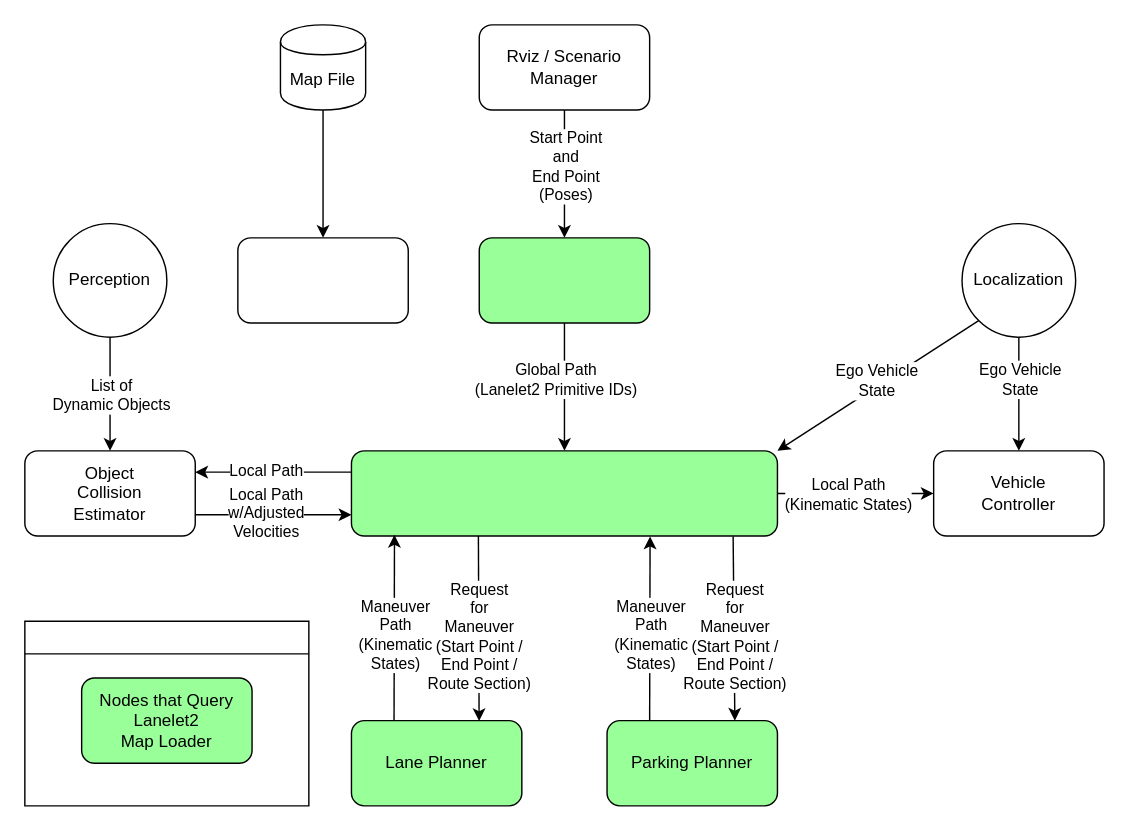
Image size: 1129x831. Some labels were removed from this diagram. Each missing label, with the centre of its shape:
"Behavior Planner" belongs at point (563, 492).
"Global Planner" belongs at point (564, 279).
"Lanelet2 Map Loader" belongs at point (322, 279).
"Legend" belongs at point (166, 713).
